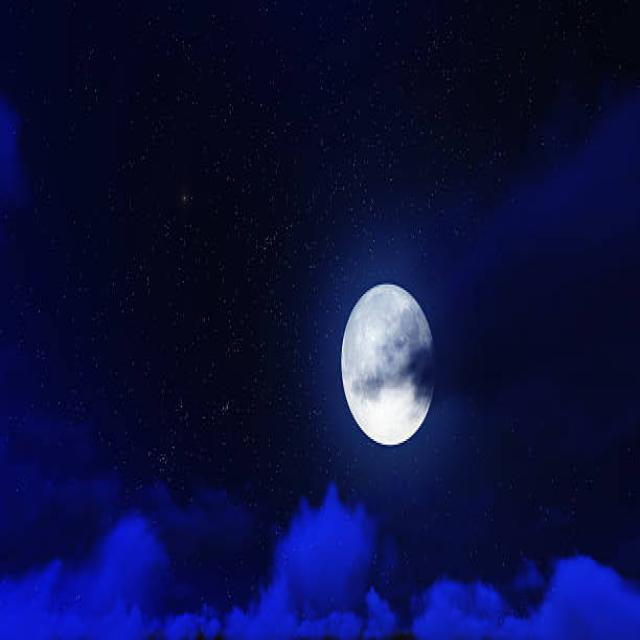moon: (328, 264, 434, 448)
